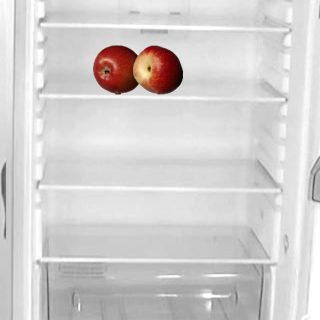Apple Braeburn: (92, 44, 142, 94)
Nectarine: (132, 44, 182, 94)
